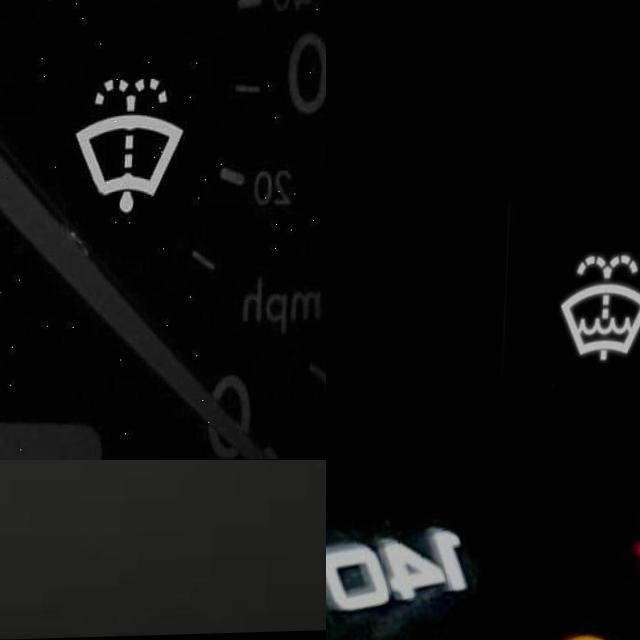Washer Fluid: (73, 74, 191, 221), (563, 256, 640, 362)
